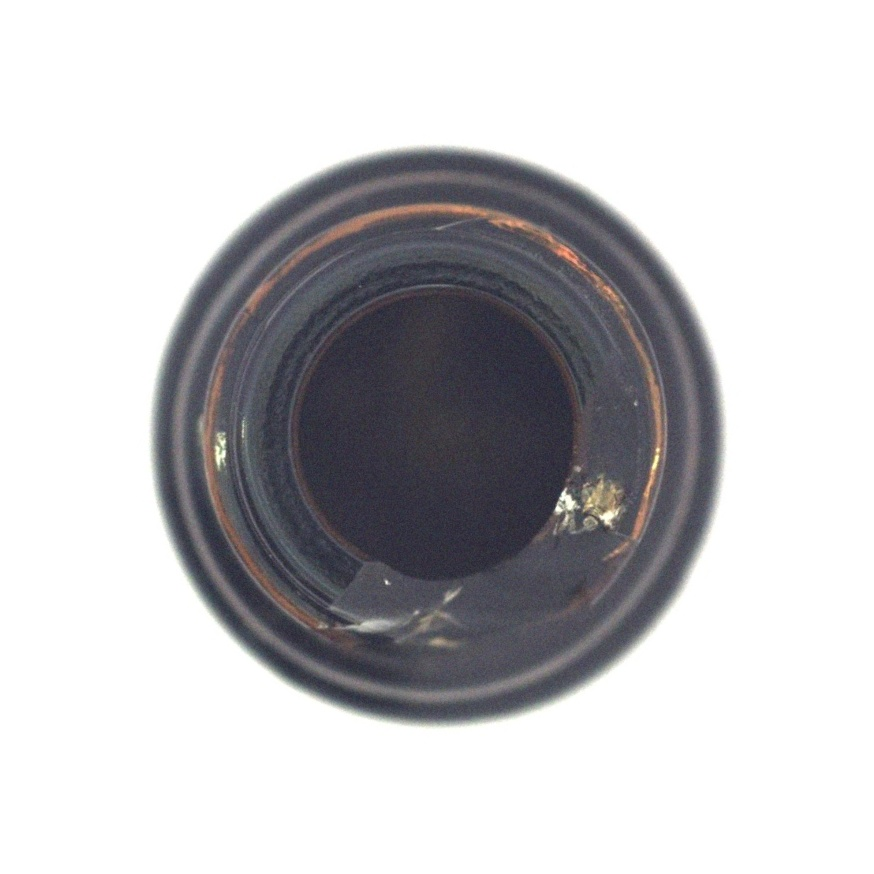bad-broken_large: (41, 36, 834, 831)
